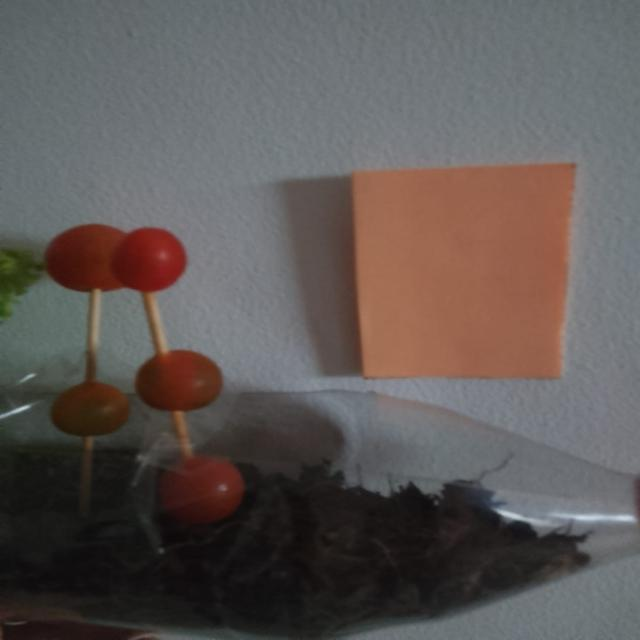card: (352, 164, 574, 378)
fruit_maturation: (159, 456, 244, 524), (135, 350, 221, 411), (50, 381, 129, 437)
fully_grown: (45, 224, 186, 292)
